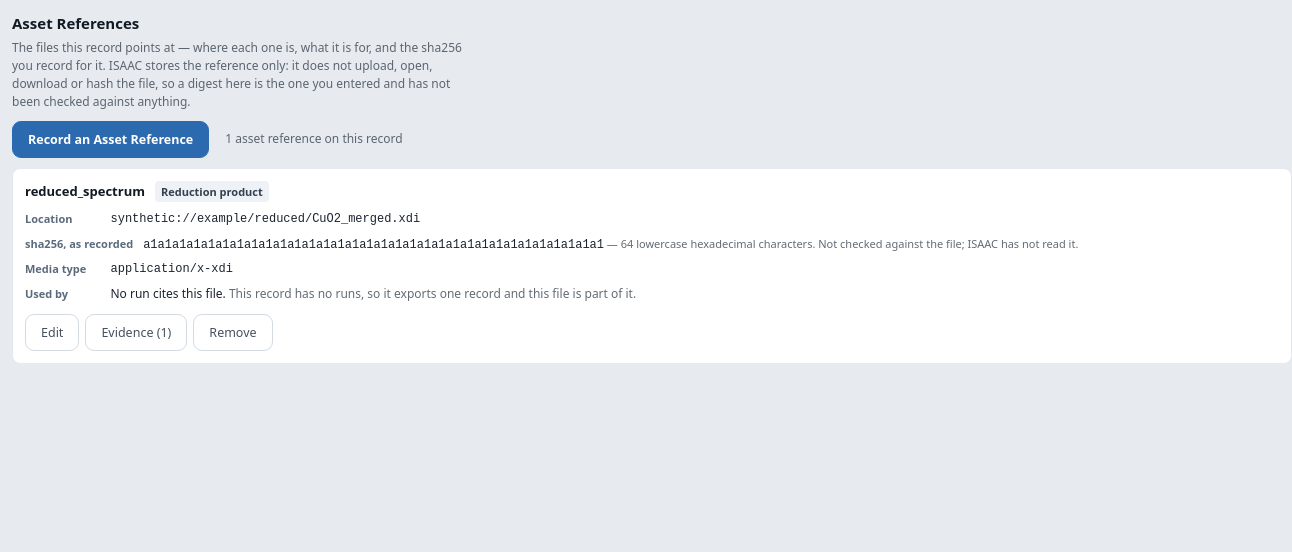
Test: the evidence view › shows what was recorded and denies that any of it is a check of the file
The image size is (1292, 552).
Expected: the heading "reduced_spectrum" is shown, [25,181,145,201]
Click the button "Evidence (1)" at (136, 332), box [85,314,187,351]
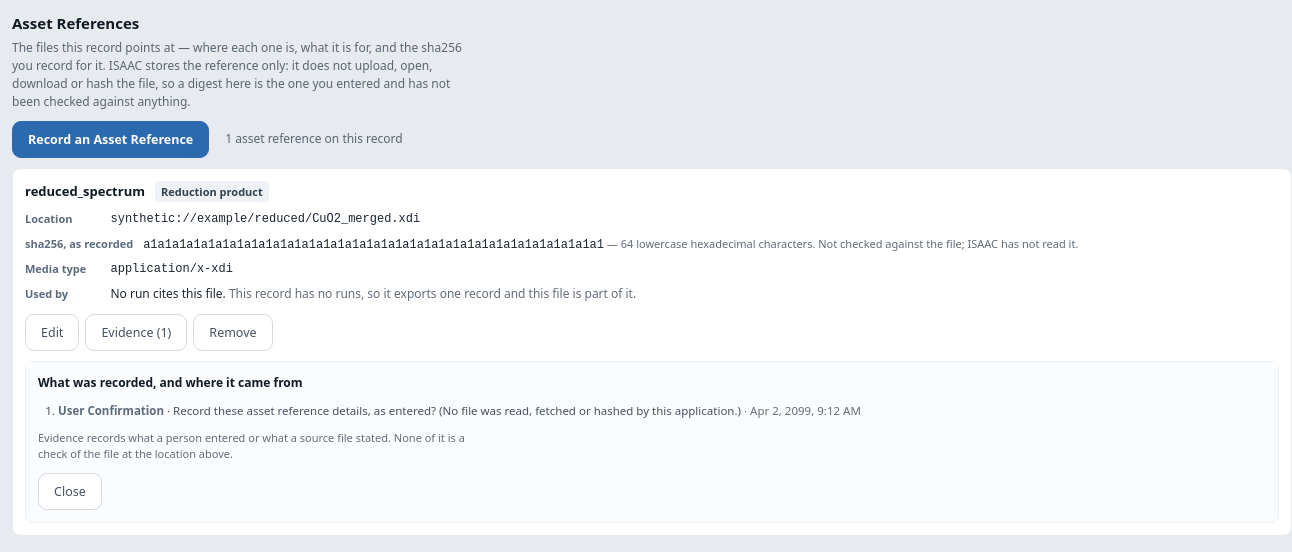
Result: the text "None of it is a check of the file at the location above" is shown at [38,430,465,461]
